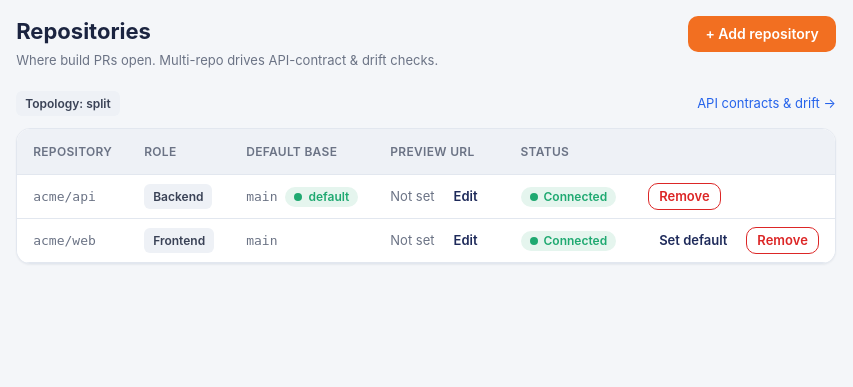
Test: Set default › says why the server refused, in its own words
Expected: the text "acme/web" is shown, [33,233,96,248]
Click the button "Set default": (693, 240) [648,227,738,254]
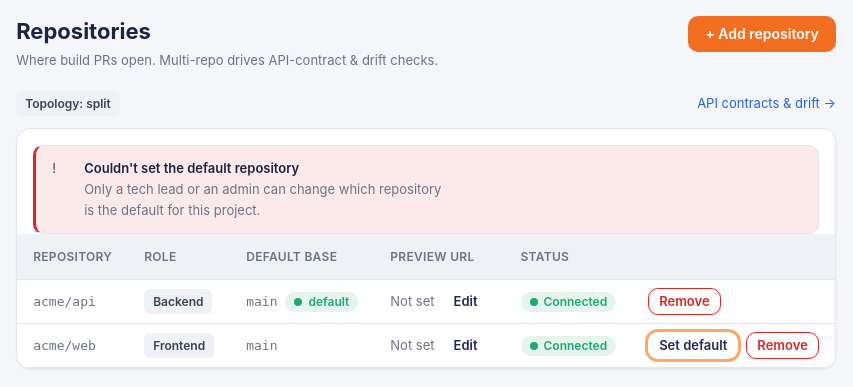
Expected: the text "default" is shown, [286,292,358,312]
Expected: the text "Couldn't set the default repository" is shown, [84,160,299,176]
Expected: the text "Only a tech lead or an admin can change which repository is the default for this project." is shown, [84,181,441,218]
